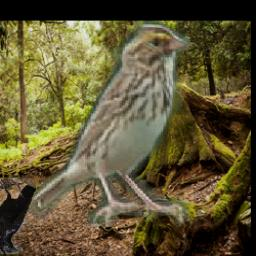Crow: (0, 178, 37, 254)
Sparrow: (28, 21, 190, 228)
